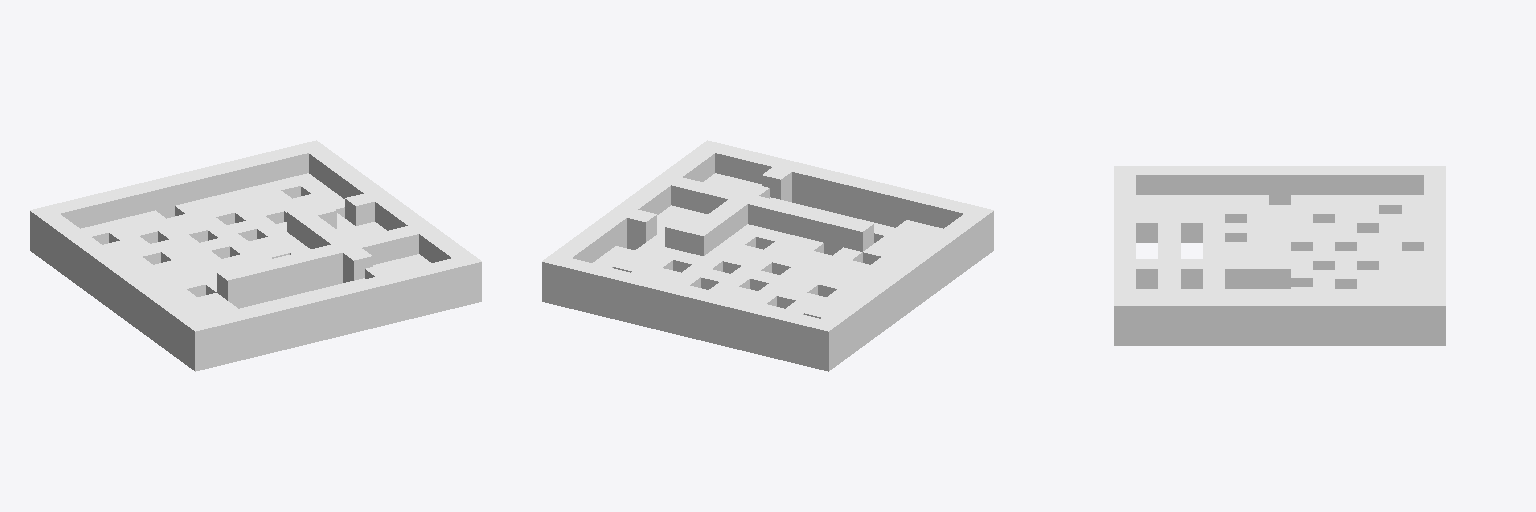
Rendered from maze_lvl_2.obj.
The picture shows the model from 3 angles: view 1: azimuth 30°, elevation 25°; view 2: azimuth 150°, elevation 25°; view 3: azimuth 270°, elevation 25°; orthographic projection.
Parts seen in each view (by area): view 1: object 1; view 2: object 1; view 3: object 1.
Boxes of the visible parts, x1=… form: object 1: x1=30, y1=140, x2=481, y2=371; object 1: x1=542, y1=140, x2=993, y2=371; object 1: x1=1114, y1=166, x2=1445, y2=345.
Bounding box in the file's own units: 1.5 × 0.2 × 1.5.